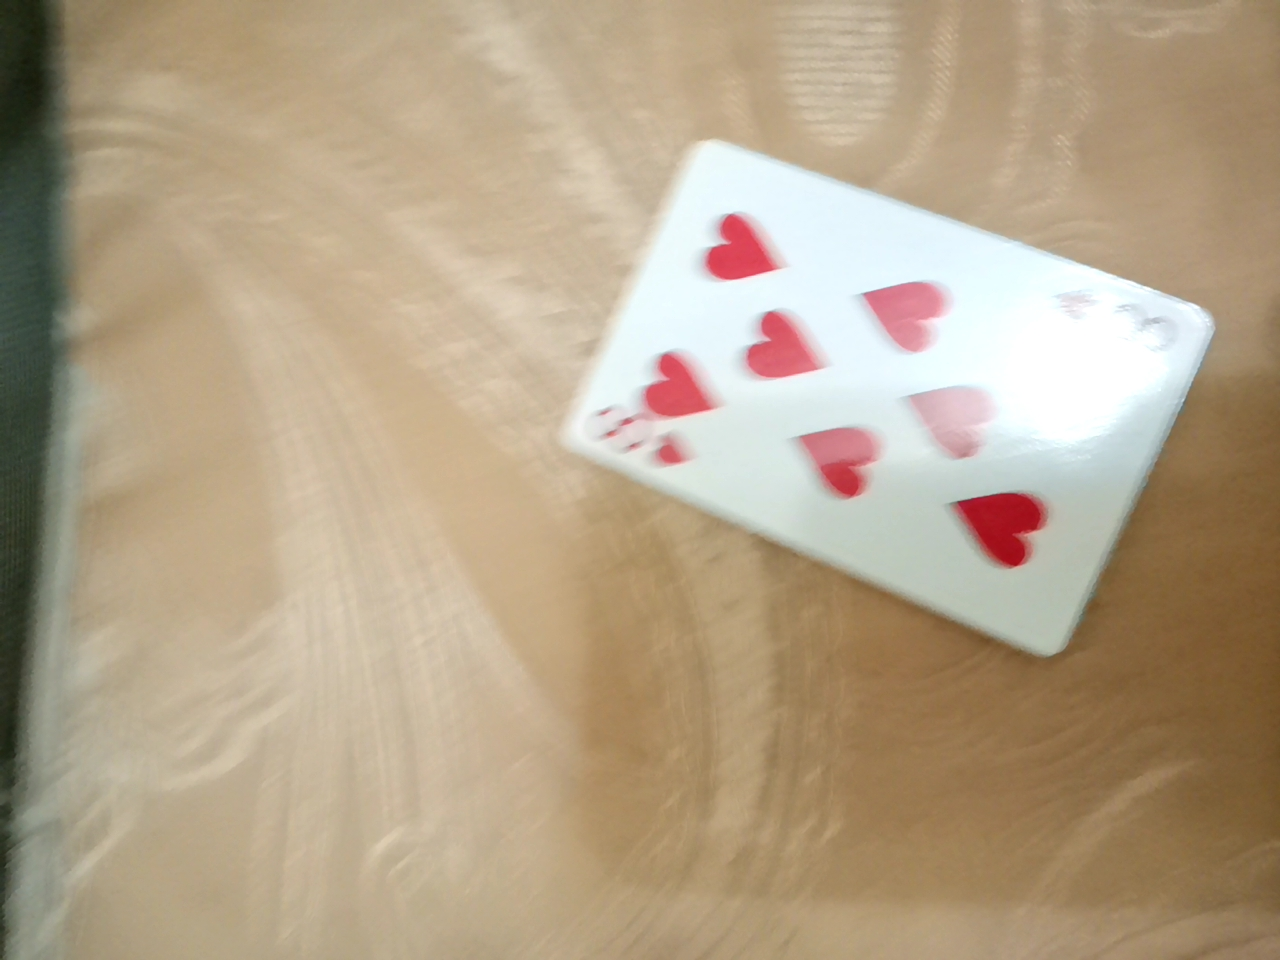hx 8: (560, 129, 1206, 676)
